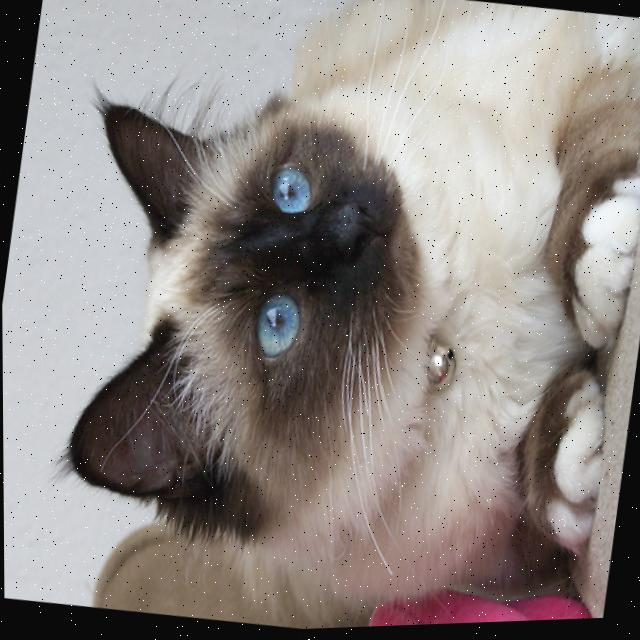Birman: (20, 0, 640, 639)
